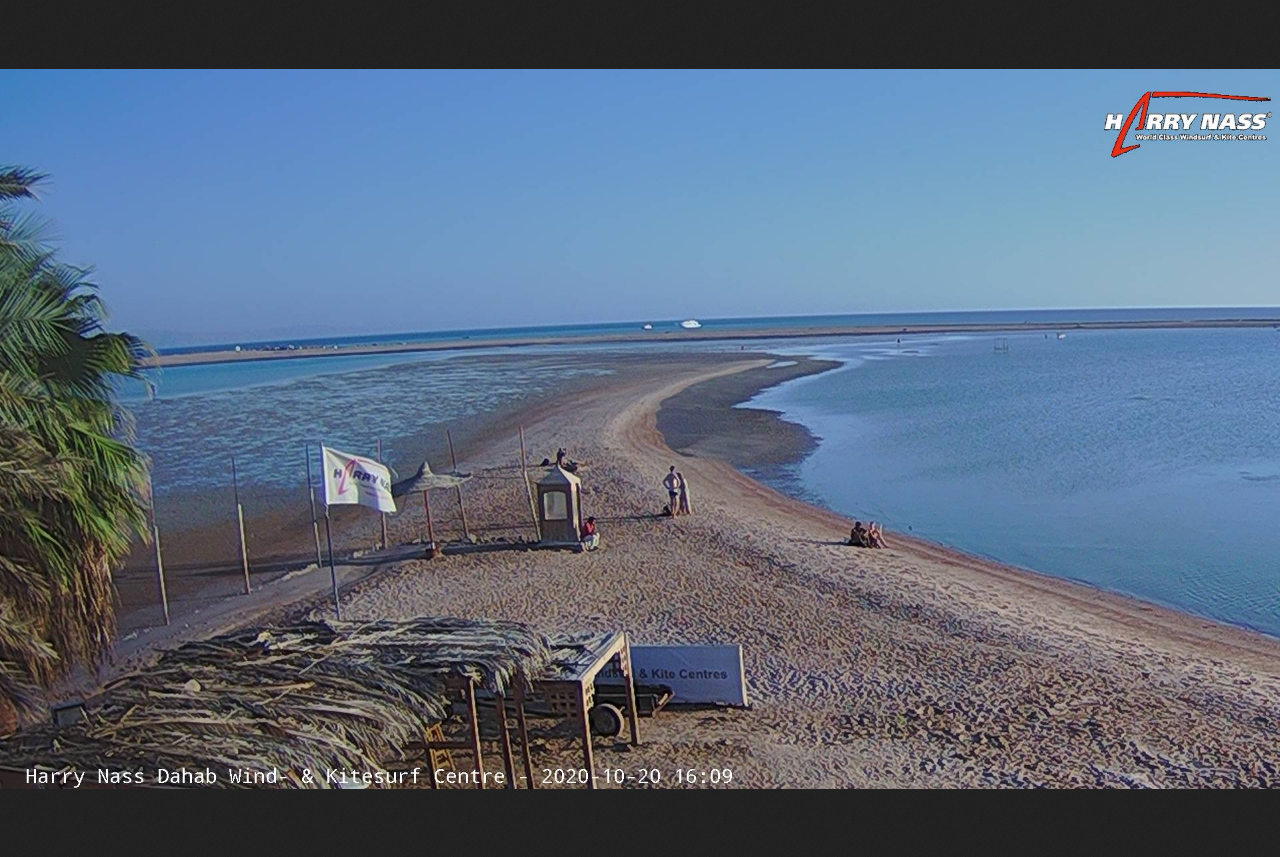yes: (309, 441, 405, 519)
